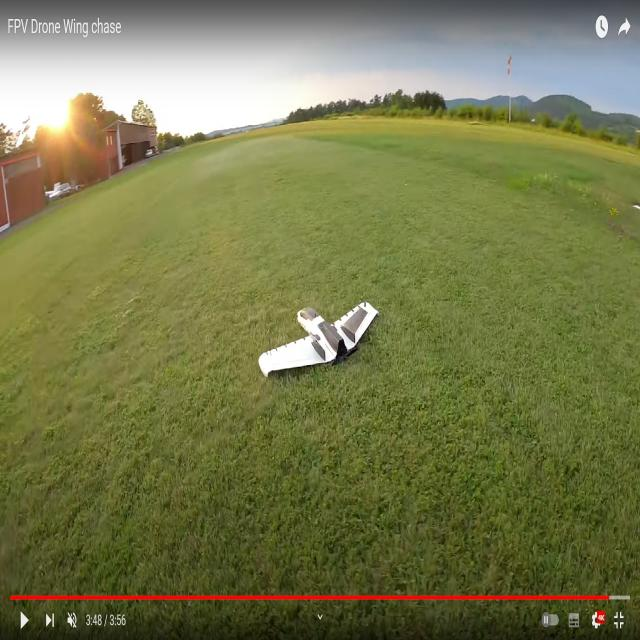iha: (296, 329, 345, 350)
